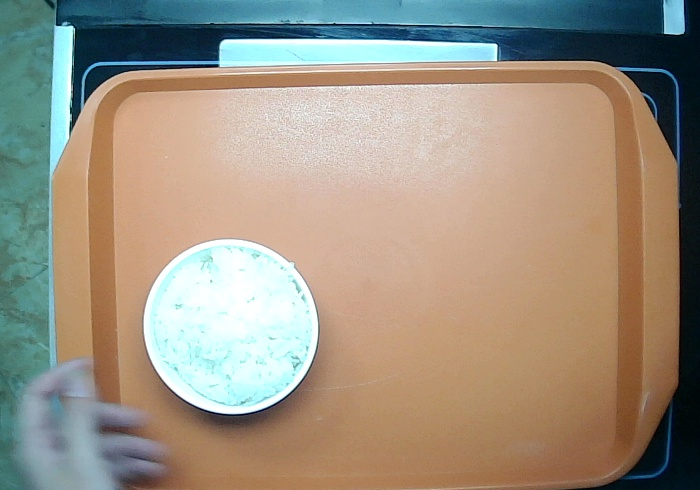HZYJPL-Fan_Wan: (137, 231, 320, 424)
